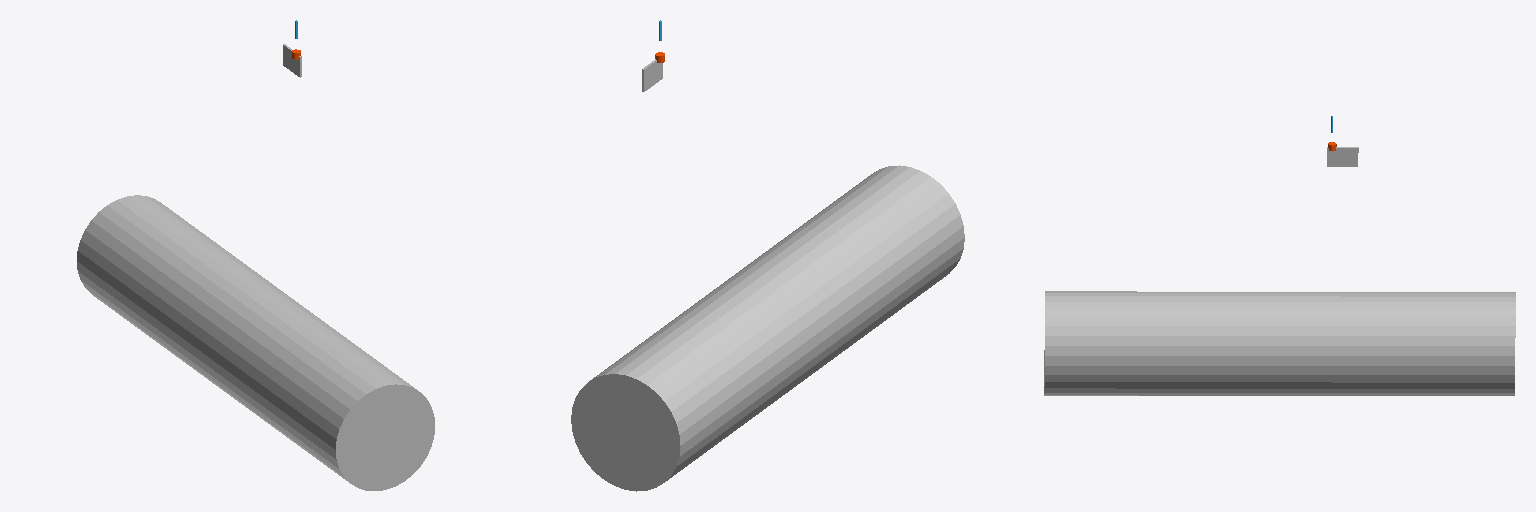
The robot description file, URDF, robot "bravo7":
<robot name="bravo7">
<material name="green2">
  <color rgba="0.235 0.702 0.443 1"/>
</material>

<material name="blue">
  <color rgba="0.263 0.733 0.984 1"/>
</material>

<material name="trans_black">
  <color rgba="0.8 0.8 0.8 1"/>
</material>

<material name="black2">
  <color rgba="0.8 0.8 0.8 1"/>
</material>


<material name="orange">
  <color rgba="1 0.369 0.047 1"/>
</material>

<material name="green">
  <color rgba="0 1 0 0.5"/>
</material>

<material name="bravo_black">
  <color rgba="0.3 0.3 0.3 0.7"/>
</material>

<material name="bravo_jaws_black">
    <color rgba="0.3 0.3 0.3 1"/>
</material>

<link name="mobile_base">
    <visual>
            <geometry>
                <mesh filename="package://bravo_description/meshes/caracara_visual_color.dae" scale="0.5 0.5 0.5"/>
            </geometry>
            <material name="blue"/>
    </visual>
</link>

<link name="attachment">
    <visual>
            <geometry>
                 <box size="0.02 0.3 0.2" />
            </geometry>
            <material name="black2"/>
    </visual>
</link>

        <joint name="link_vehicle" type="fixed">
            <origin xyz="-0.01 -0.1 0" rpy="0 0 0"/>
            <parent link="link1"/>
            <child link="attachment"/>
        </joint>

<link name="base_link"/>

        <joint name="bravo_joint" type="fixed">
            <origin rpy="0 0 0" xyz="0 0 0"/>
            <parent link="base_link"/>
            <child link="bravo_base_link"/>
        </joint>

<link name="bravo_base_link"/>

<link name="world"/>  

<link name="oil_pipe">
    <visual>
        <geometry>
            <cylinder radius="0.5" length="4.5"/>
        </geometry>
        <material name="trans_black"/>
    </visual>
</link>

        <joint name="world_pipe" type="fixed">
            <origin xyz="0 0 -1.5" rpy="1.57 0 0"/>
            <parent link="world"/>
            <child link="oil_pipe"/>
        </joint>


        <joint name="loose_joint" type="fixed">
            <origin xyz="1 1 1" rpy="0 0 0"/>
            <parent link="world"/>
            <child link="mobile_base"/>
        </joint>

        <joint name="bravo_base" type="fixed">
            <parent link="mobile_base"/>
            <child link="base_link"/>
            <origin rpy="3.14 0 0" xyz="-0.28 -0.5 -0.2"/>
        </joint>

<link name="link1">
    <visual>
        <geometry>
            <mesh filename="package://bravo_description/meshes/RS2-266.stl"/>
        </geometry>
        <material name="blue"/>
    </visual>
</link>

        <joint name="base_fixed" type="fixed">
            <parent link="bravo_base_link"/>
            <child link="link1"/>
            <origin rpy="0 0 0"/>
        </joint>

<link name="link2">
    <visual>
        <geometry>
            <mesh filename="package://bravo_description/meshes/RS2-217.stl"/>
        </geometry>
        <material name="green2"/>
        </visual>
</link>

        <joint name="joint1" type="revolute">
            <parent link="link1"/>
            <child link="link2"/>
            <origin rpy="0 0 0" xyz="0.0665 0 0.078"/>
            <axis xyz="0 0 -1"/>
            <limit effort="9.0" lower="0.0" upper="6.3" velocity="0.5"/>
        </joint>

<link name="link3">
    <visual>
        <geometry>
            <mesh filename="package://bravo_description/meshes/RS2-250-212-214.stl"/>
        </geometry>
        <material name="blue"/>
    </visual>
</link>

        <joint name="joint2" type="revolute">
            <parent link="link2"/>
            <child link="link3"/>
            <origin rpy="0 0 0" xyz="-0.046 0 0.0674"/>
            <axis xyz="0 1 0"/>
            <limit effort="9.0" lower="0.0" upper="3.5" velocity="0.5"/>
        </joint>

<link name="link4">
    <visual>
        <geometry>
            <mesh filename="package://bravo_description/meshes/RS2-268.stl"/>
        </geometry>
        <material name="green2"/>
    </visual>
</link>

        <joint name="joint3" type="revolute">
            <parent link="link3"/>
            <child link="link4"/>
            <origin rpy="0 0 0" xyz="-0.0052 0 -0.29055"/>
            <axis xyz="0 1 0"/>
            <limit effort="9.0" lower="0.0" upper="3.5" velocity="0.5"/>
        </joint>


<link name="link5">
    <visual>
        <geometry>
            <mesh filename="package://bravo_description/meshes/RS2-214.stl"/>
        </geometry>
        <material name="blue"/>
    </visual>
</link>

        <joint name="joint4" type="revolute">
            <parent link="link4"/>
            <child link="link5"/>
            <origin rpy="0 0 0" xyz="0.0408 0 0.09695"/>
            <axis xyz="0 0 -1"/>
            <limit effort="9.0" lower="0.0" upper="6.3" velocity="0.5"/>
        </joint>

<link name="link6">
    <visual>
        <geometry>
            <mesh filename="package://bravo_description/meshes/RS2-161.stl"/>
        </geometry>
        <material name="green2"/>
    </visual>
</link>

        <joint name="joint5" type="revolute">
            <parent link="link5"/>
            <child link="link6"/>
            <origin rpy="0 0 0" xyz="-0.0408 0 0.063"/>
            <axis xyz="0 1 0"/>
            <limit effort="9.0" lower="0.0" upper="3.5" velocity="0.5"/>
        </joint>

<link name="link7">
    <visual>
        <geometry>
            <mesh filename="package://bravo_description/meshes/RS2-180.stl"/>
        </geometry>
        <material name="blue"/>
    </visual>
</link>

<link name="force_torque_sensor">
    <visual>
        <geometry>
            <cylinder length="0.06" radius="0.04"/>
        </geometry>
        <material name="orange"/>
    </visual>
</link>

        <joint name="FT_fixed_1" type="fixed">
            <origin rpy="0 0 1.57" xyz=" 0 0 -0.03"/>
            <parent link="link7"/>
            <child link="force_torque_sensor"/>
        </joint>

        <joint name="joint6" type="revolute">
            <parent link="link6"/>
            <child link="link7"/>
            <origin rpy="0 3.14159 0" xyz="-0.0408 0 -0.14863"/>
            <axis xyz="0 0 -1"/>
            <limit effort="9.0" lower="0.0" upper="6.3" velocity="0.5"/>
        </joint>

        <joint name="bravo_jaws_joint" type="fixed">
            <origin rpy="0 0 0" xyz=" 0 0 0.124"/>
            <parent link="link7"/>
            <child link="bravo_jaws_base_link"/>
        </joint>

<link name="bravo_jaws_base_link"/>           

<!-- contact_point_joint -->
        <joint name="contact_point_joint" type="fixed">
            <!-- 0.16/0.185 for plastic/metal tool with boardmarker-->
            <!-- 0.15/0.21 for blue/white polymer tool with sponge -->
            <origin rpy="0 0 0" xyz="0 0 0.315"/>
            <parent link="force_torque_sensor"/>
            <child link="contact_point"/>
        </joint>

<!-- contact_point -->
  <link name="contact_point">
    <visual>
      <origin rpy="0 0 0" xyz="0 0 0"/>
      <geometry>
        <sphere radius="0.01"/>
      </geometry>
      <material name="blue"/>
    </visual>
  </link>

<link name="end_effector">
    <visual>
      <origin rpy="0 0 0" xyz="0 0 0"/>
      <geometry>
        <cylinder radius="0.01" length="0.165"/>
      </geometry>
      <material name="blue"/>
    </visual>
</link>


        <joint name="tool" type="fixed">
            <parent link="contact_point"/>
            <child link="end_effector"/>
            <origin rpy="0 0 0" xyz="0 0 -0.083"/>
        </joint>

</robot>

--- Render facts (derived) ---
The picture shows the robot from 3 angles, left to right: view 1: azimuth 30°, elevation 25°; view 2: azimuth 150°, elevation 25°; view 3: azimuth 270°, elevation 25°; orthographic projection.
Model bravo7 with 17 links and 16 joints (6 revolute, 10 fixed), rooted at world, posed every joint at zero.
Visible links, largest first — view 1: oil_pipe; view 2: oil_pipe; view 3: oil_pipe, attachment.
Link boxes in pixels (left/top/right/bottom): oil_pipe: left=77, top=195, right=434, bottom=490; oil_pipe: left=571, top=165, right=964, bottom=491; oil_pipe: left=1044, top=291, right=1515, bottom=395; attachment: left=1327, top=147, right=1358, bottom=166.
Size in the robot's own frame: 1.23 by 4.5 by 3.23 metres.
Meshes: 8 distinct files referenced, 0 mesh visuals loaded (none loaded); not drawn: 8 (reference not matched to a file when rendering).